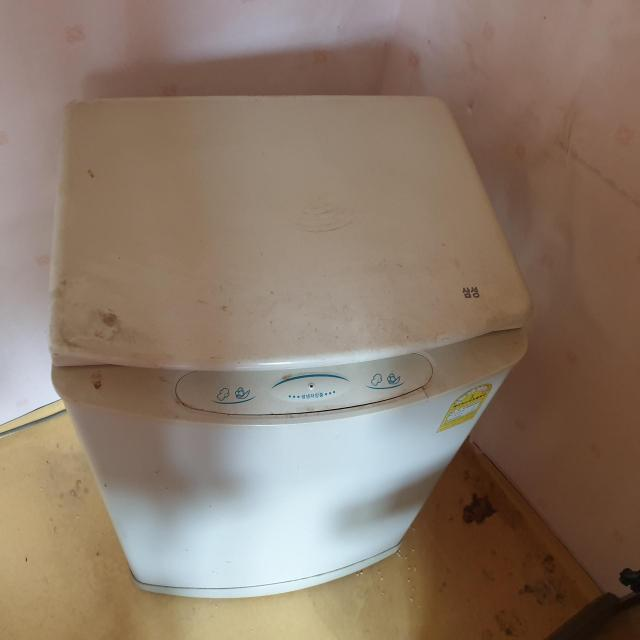refrigerator: (51, 93, 528, 600)
